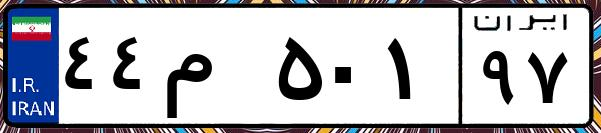0: (330, 28, 385, 110)
1: (385, 28, 445, 110)
4: (57, 26, 110, 100), (110, 28, 158, 98)
5: (270, 28, 330, 110)
7: (525, 38, 570, 115)
9: (475, 38, 525, 113)
م: (158, 20, 270, 120)
